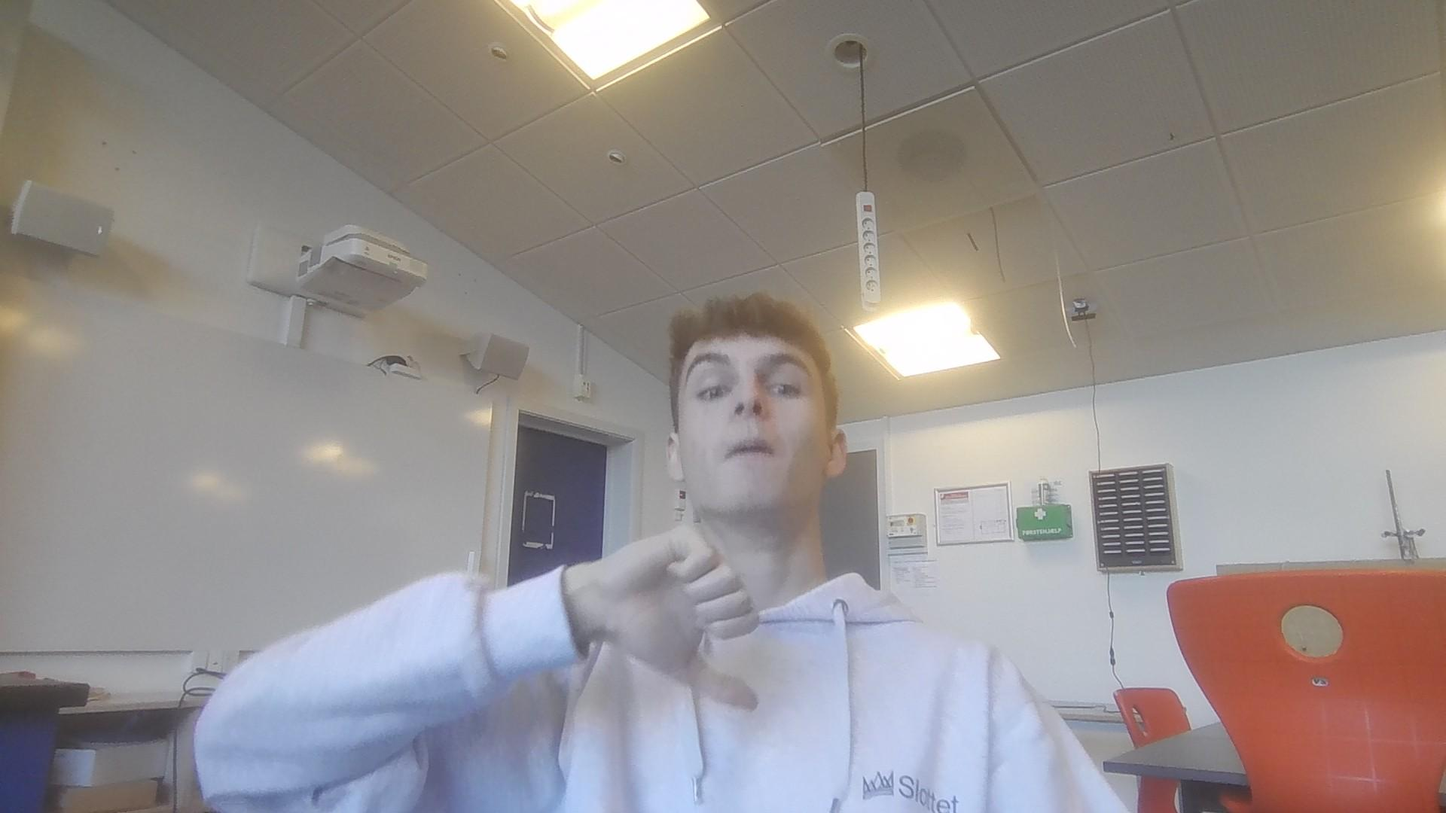thumbs down: (594, 510, 795, 724)
